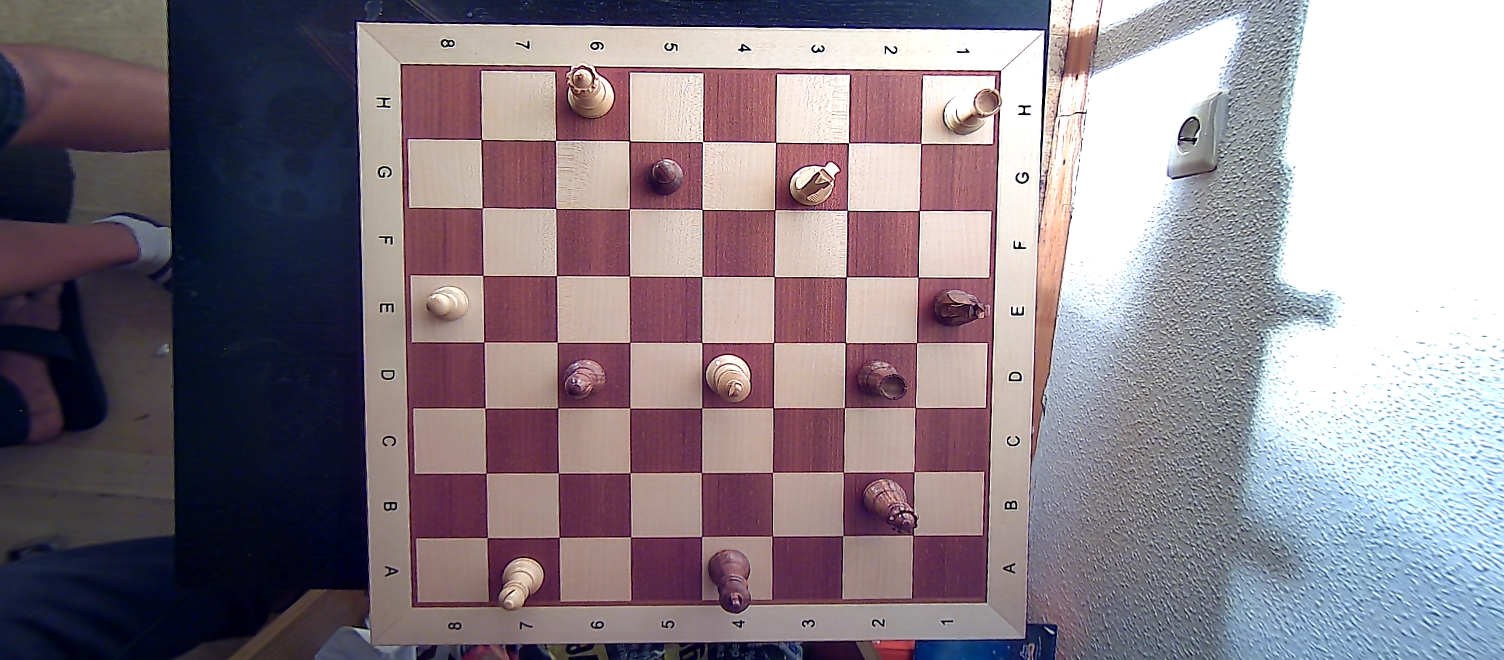black-bishop: (561, 358, 608, 404)
black-king: (704, 544, 764, 615)
black-knight: (930, 285, 991, 334)
black-pawn: (643, 154, 687, 199)
black-queen: (862, 477, 922, 534)
black-rook: (851, 356, 910, 404)
white-bishop: (495, 552, 546, 611)
white-king: (703, 351, 754, 407)
white-knight: (785, 156, 841, 213)
white-pawn: (420, 282, 473, 329)
white-queen: (563, 62, 615, 115)
white-rook: (937, 84, 1005, 139)
